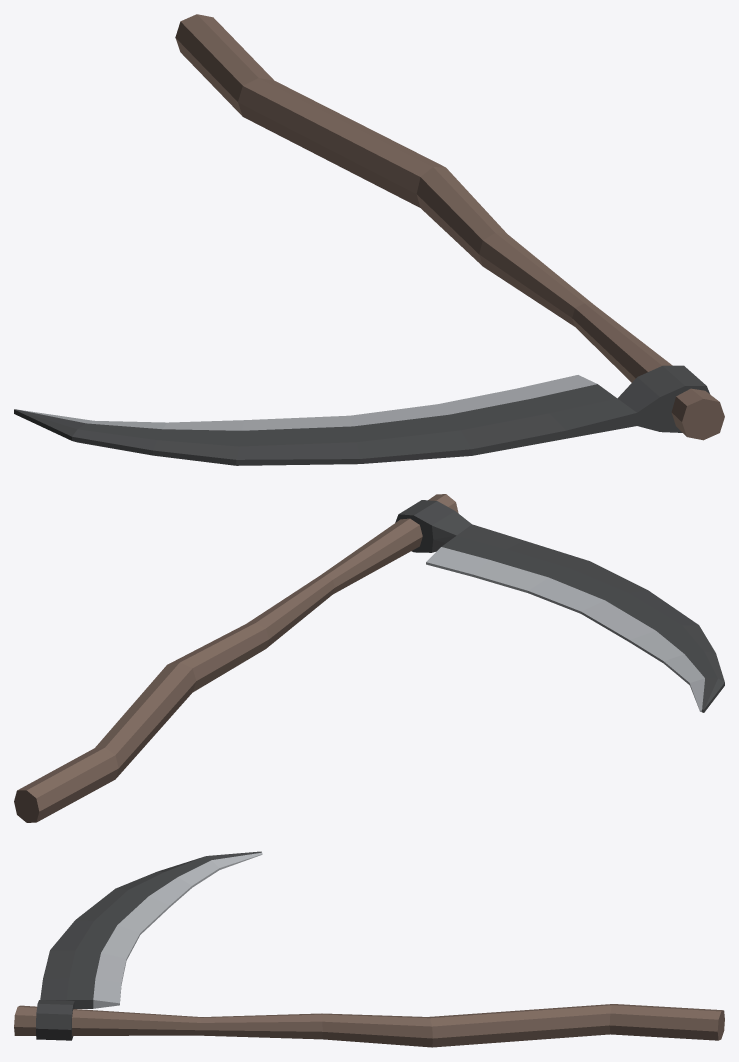
Rendered from scythe.fbx.
3 renders of one model, top to bottom at view 1: azimuth 30°, elevation 25°; view 2: azimuth 150°, elevation 25°; view 3: azimuth 270°, elevation 25°, orthographic. The views are drawn at different scales.
Parts seen in each view (by area): view 1: Scythe; view 2: Scythe; view 3: Scythe.
Part boxes in pixels (box(x1,y1,x2,y2)): Scythe: box(14, 14, 724, 465); Scythe: box(14, 494, 724, 822); Scythe: box(14, 851, 724, 1047).
Bounding box in the file's own units: 144 × 11.55 × 234.
